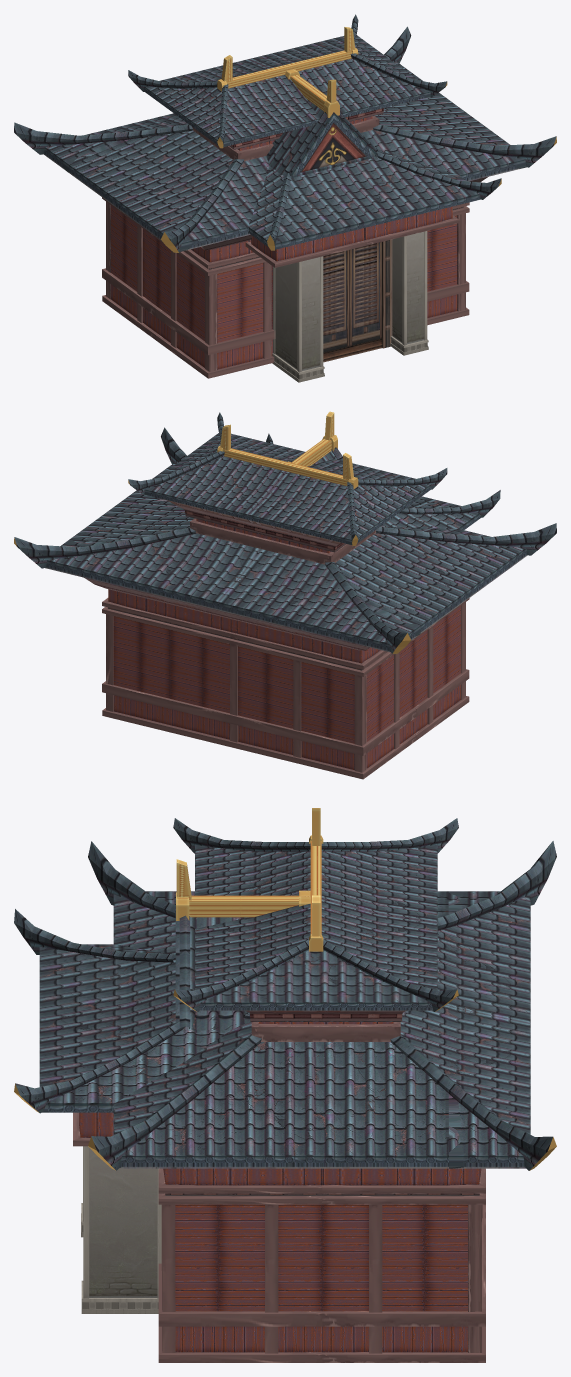
Rendered from mod_zlc_jianzhu043_xy.FBX.
The picture shows the model from 3 angles, top to bottom: view 1: azimuth 30°, elevation 25°; view 2: azimuth 150°, elevation 25°; view 3: azimuth 270°, elevation 25°; orthographic projection. The views are drawn at different scales.
Parts seen in each view (by area): view 1: mod_zlc_jianzhu043_xy; view 2: mod_zlc_jianzhu043_xy; view 3: mod_zlc_jianzhu043_xy.
Boxes of the visible parts, x1,y1,x2,y2 form: mod_zlc_jianzhu043_xy: (14, 14, 556, 382); mod_zlc_jianzhu043_xy: (14, 411, 556, 779); mod_zlc_jianzhu043_xy: (14, 808, 556, 1362).
Size of the model in its own units: 2485 by 1608 by 1906.
5 materials, 5 textured.
